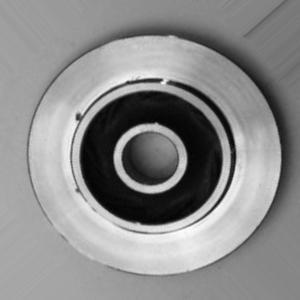defect: (63, 102, 97, 203)
